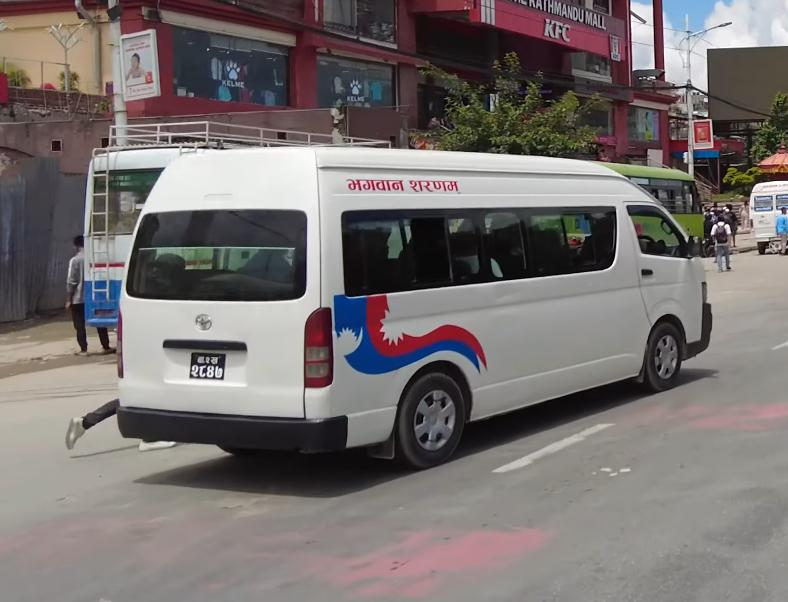micro_bus: (112, 134, 725, 477), (745, 177, 788, 255)
